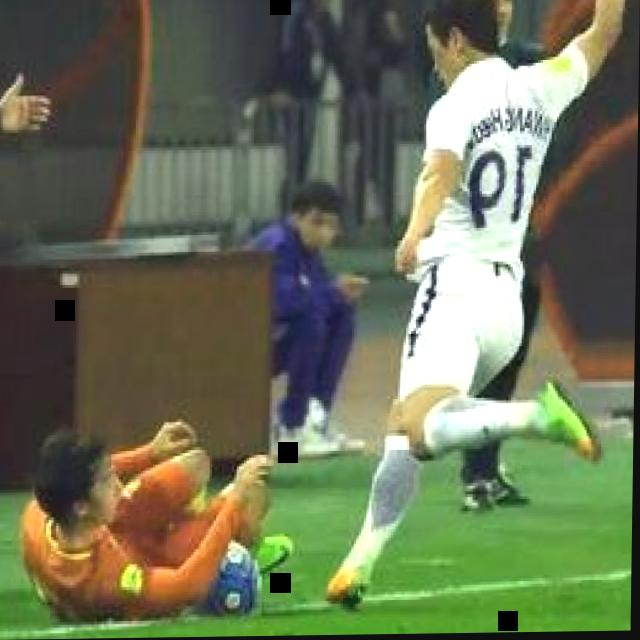Fall-Detected: (17, 379, 306, 631)
